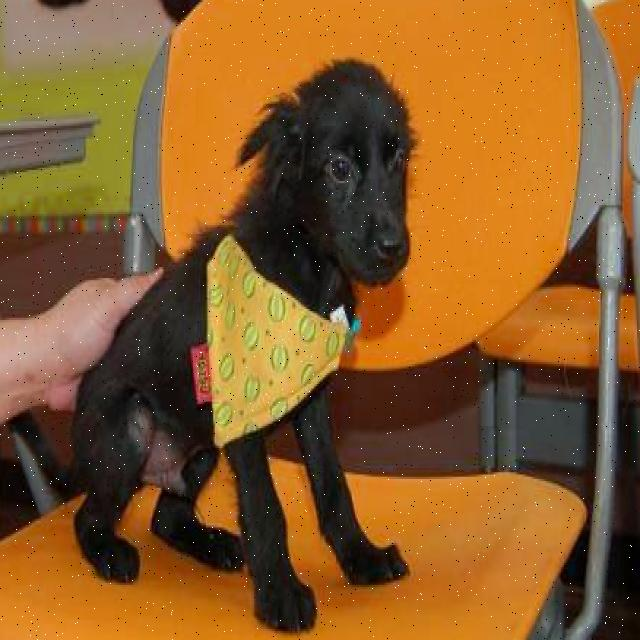Dog: (248, 52, 437, 295)
